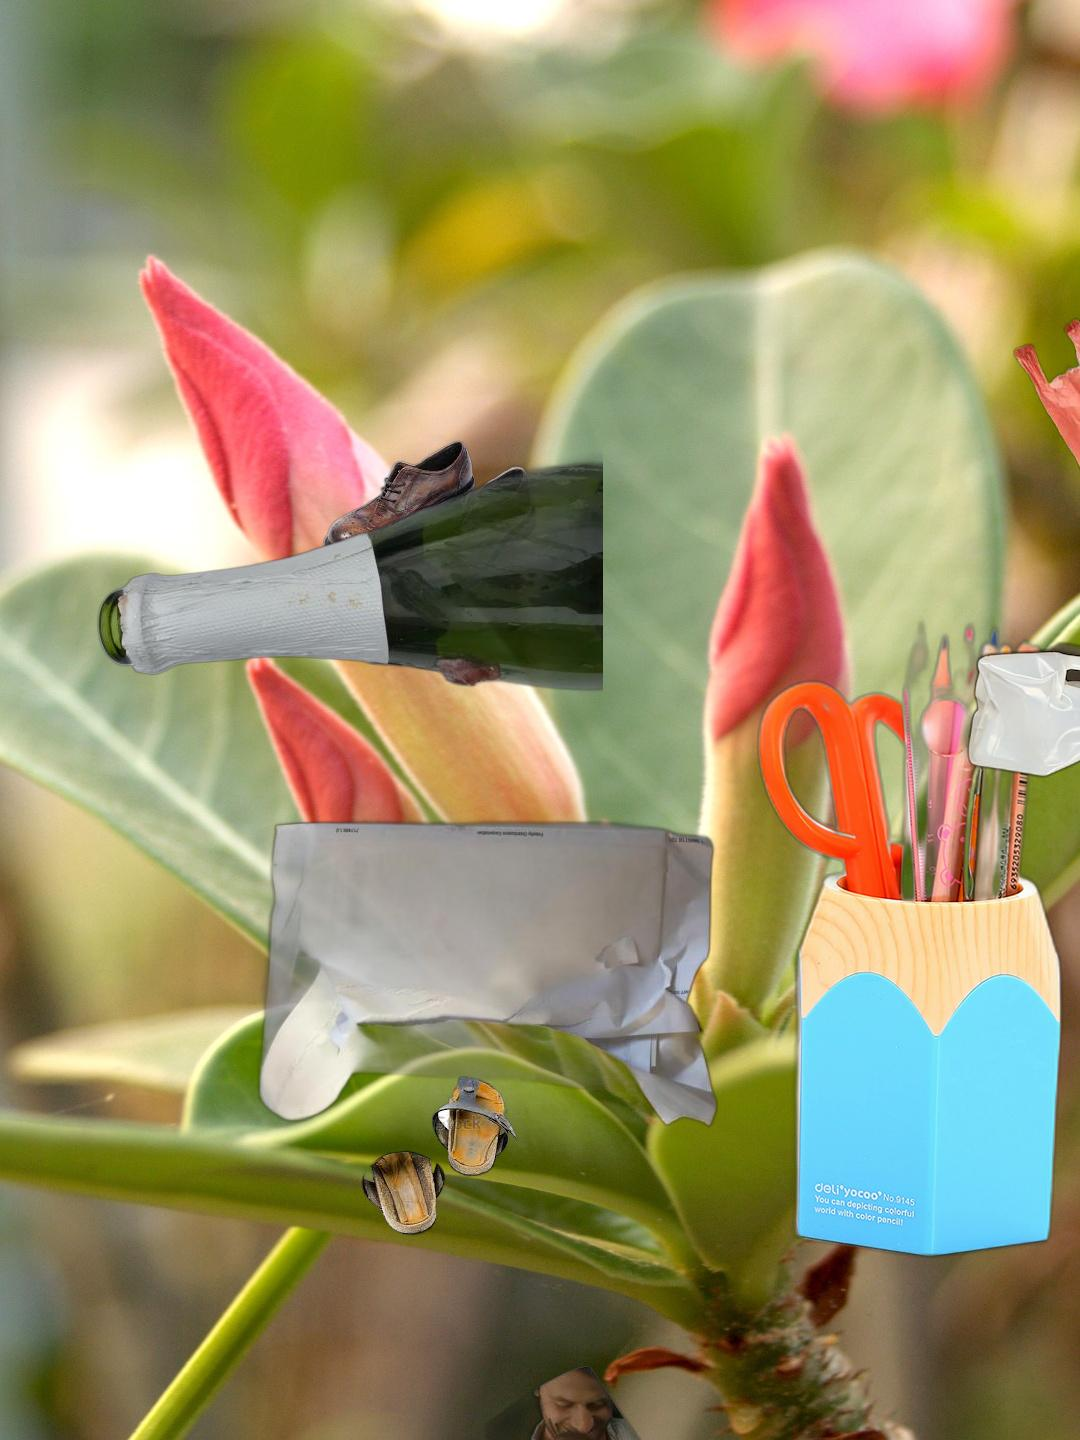glass: (94, 448, 604, 693)
paper: (217, 816, 726, 1163), (289, 1363, 723, 1440)
penholder: (752, 615, 1080, 1265)
plastic-bag: (1012, 315, 1080, 513)
plastic-bottles: (964, 636, 1080, 782)
shoes: (320, 438, 549, 608), (358, 1075, 518, 1238)
